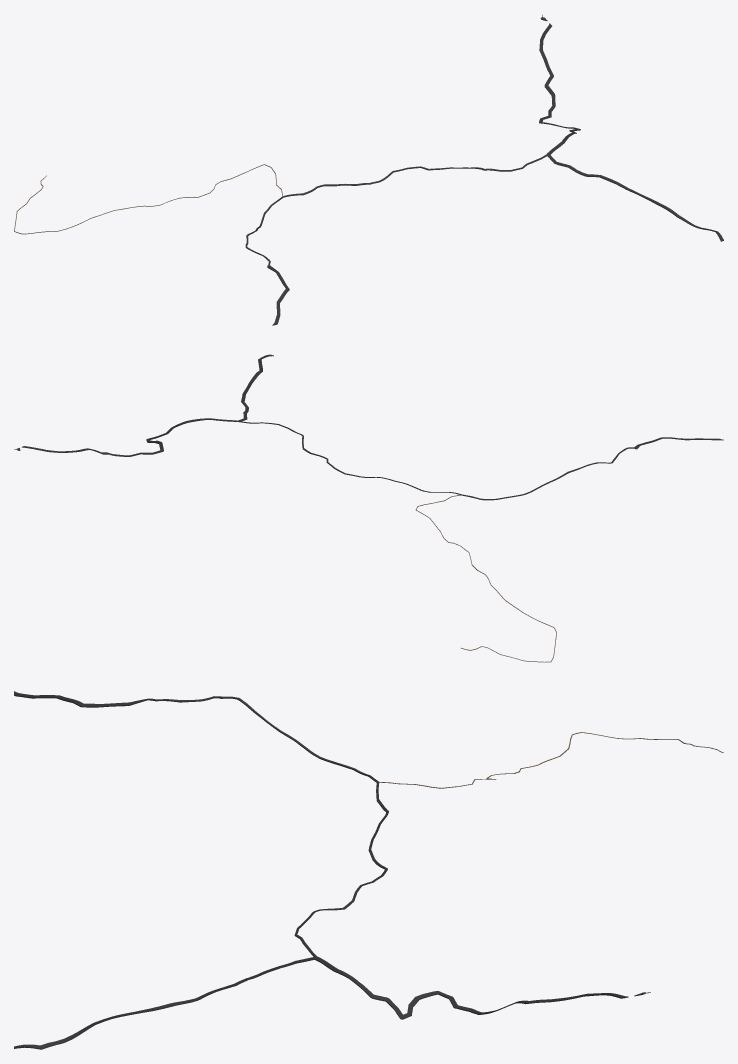
The picture shows the model from 3 angles, top to bottom: view 1: azimuth 30°, elevation 25°; view 2: azimuth 150°, elevation 25°; view 3: azimuth 270°, elevation 25°; orthographic projection. The views are drawn at different scales.
Bounding box in the file's own units: 1117 × 171 × 888.
